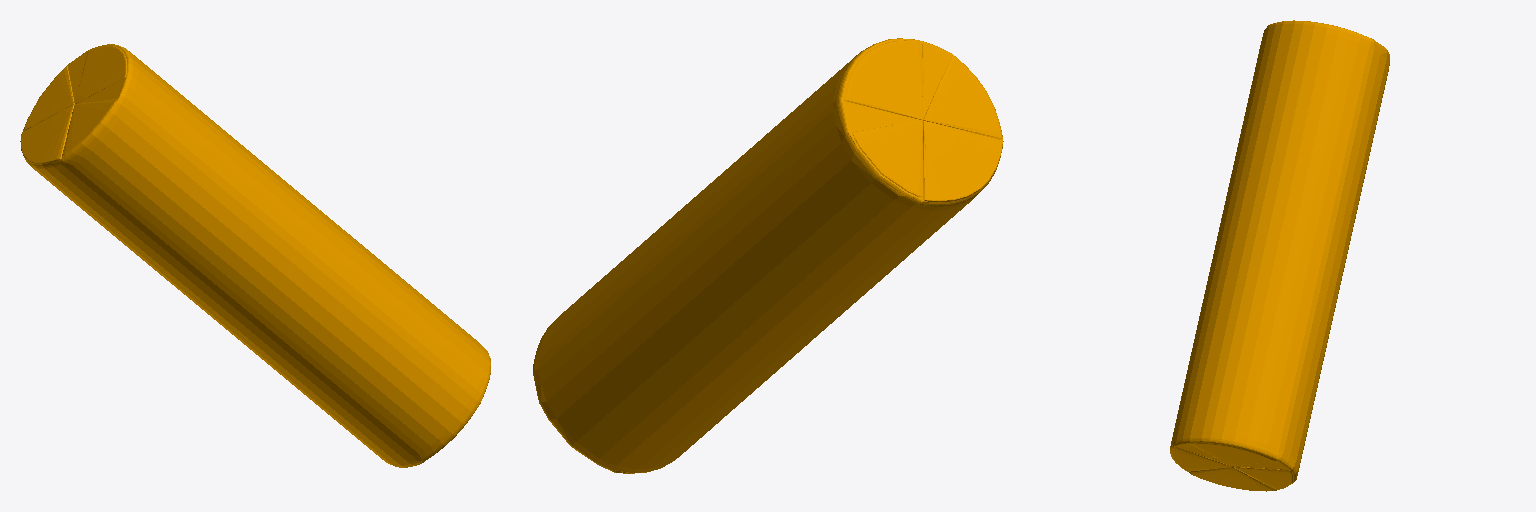
The robot description file, URDF, robot "biscuit1":
<?xml version="1.0"?>
<robot name="biscuit1">
  <link name="biscuit1">
    <visual>
      <origin xyz="0.0 0.0 0.0" rpy="1.5708 0.0 0.0"/>
      <geometry>
        <mesh filename="biscuit.obj" scale="0.24 0.24 0.24"/>
      </geometry>
    </visual>
    <collision>
      <origin xyz="0.0 0.0 0.0" rpy="1.5708 0.0 0.0"/>
      <geometry>
        <mesh filename="biscuit.obj" scale="0.24 0.24 0.24"/>
      </geometry>
    </collision>
    <inertial>
      <mass value="0.102"/>
      <inertia ixx="0.0001" ixy="0.0" ixz="0.0" iyy="0.0001" iyz="0.0" izz="0.0001"/>
    </inertial>
  </link>
</robot>

--- What the picture shows (computed from the rendered views, not written in the file) ---
The picture shows the robot from 3 angles, left to right: view 1: azimuth 30°, elevation 25°; view 2: azimuth 150°, elevation 25°; view 3: azimuth 270°, elevation 25°; orthographic projection.
Robot: biscuit1 — 1 links, 0 joints (none); root link biscuit1; default pose: every joint at zero.
Visible links, largest first — view 1: biscuit1; view 2: biscuit1; view 3: biscuit1.
Link boxes in pixels (box(x1,y1,x2,y2)): biscuit1: box(20, 44, 490, 467); biscuit1: box(533, 38, 1003, 473); biscuit1: box(1170, 20, 1389, 491).
Bounding box of the posed robot: 0.0421 × 0.0231 × 0.0432 m (x, y, z).
Meshes: 1 distinct files referenced, 1 mesh visuals loaded (1 OBJ).